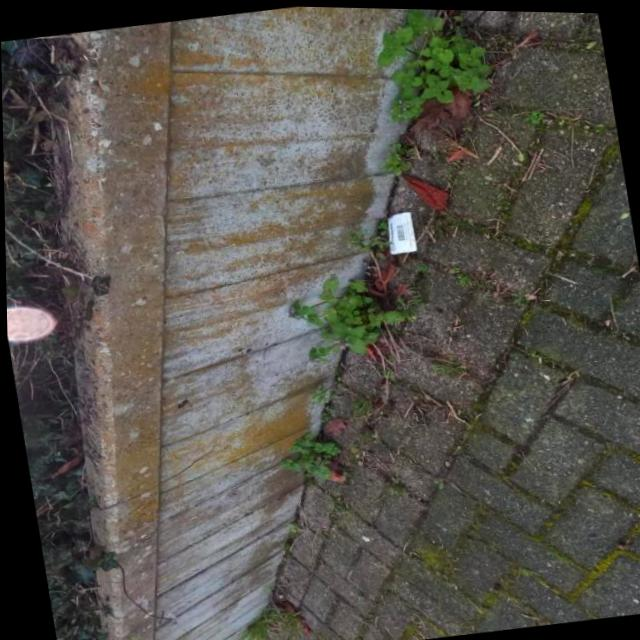Paper: (376, 210, 419, 257)
